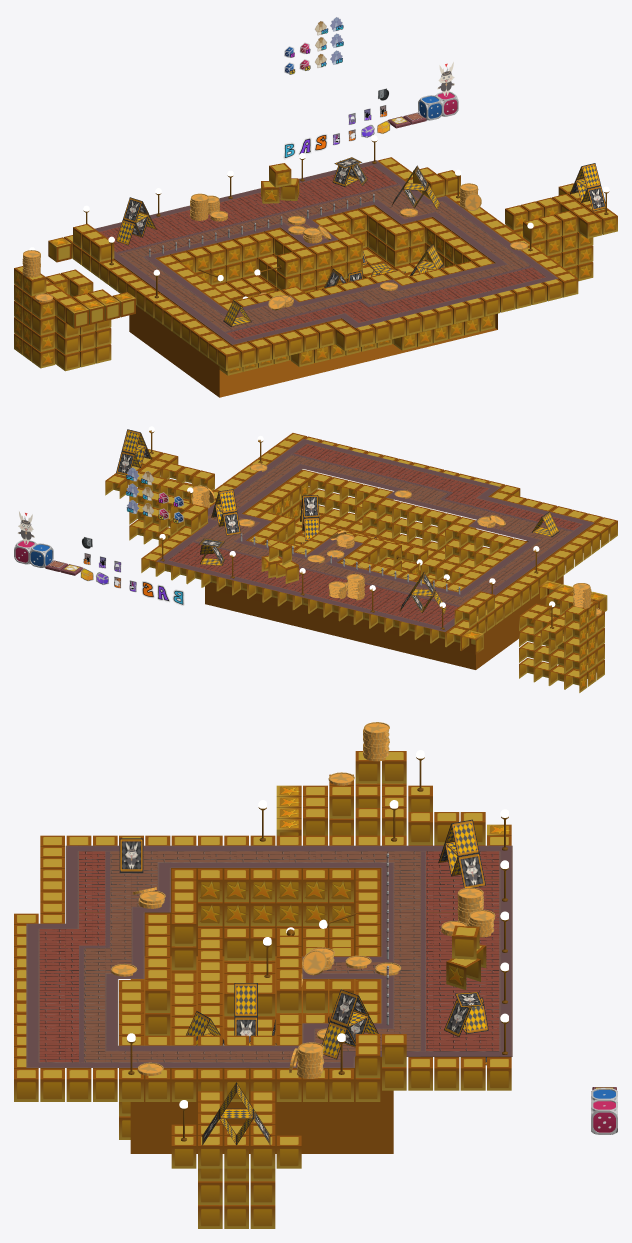
3 renders of one model, top to bottom at view 1: azimuth 30°, elevation 25°; view 2: azimuth 150°, elevation 25°; view 3: azimuth 270°, elevation 25°, orthographic. The views are drawn at different scales.
Visible parts, largest first — view 1: 0_MapBase, 200_DiceBlue; view 2: 0_MapBase, 200_DiceBlue, 200_DiceRed; view 3: 0_MapBase, 200_DiceRed.
Part boxes in pixels (x1,y1,x2,y2): 0_MapBase: [14, 135, 617, 397]; 200_DiceBlue: [418, 95, 443, 120]; 0_MapBase: [105, 426, 617, 692]; 200_DiceBlue: [29, 543, 53, 567]; 200_DiceRed: [14, 540, 36, 564]; 0_MapBase: [14, 722, 512, 1228]; 200_DiceRed: [591, 1099, 617, 1134].
Bounding box in the file's own units: 33.48 × 11.86 × 22.98.
6 materials, 5 textured.
